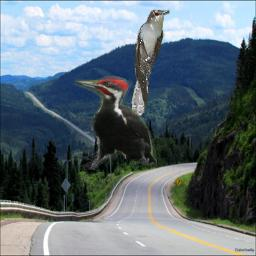Cuckoo: (130, 8, 170, 116)
Woodpecker: (75, 72, 157, 170)
